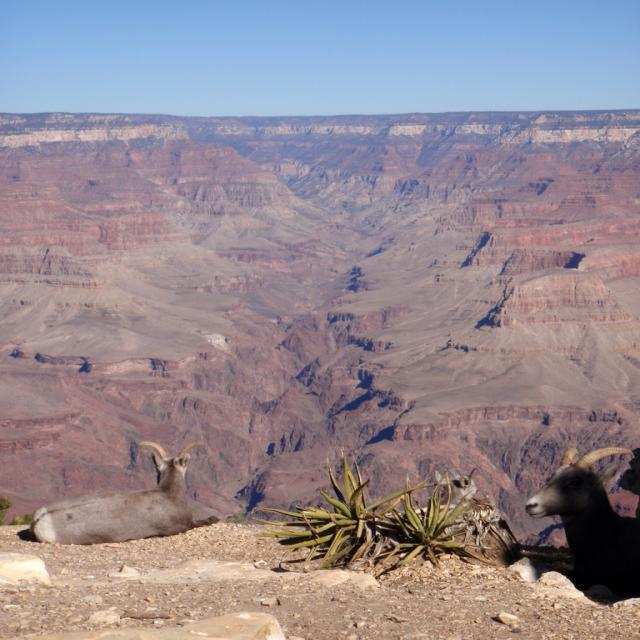Goat: (18, 439, 205, 545), (523, 445, 639, 599)
